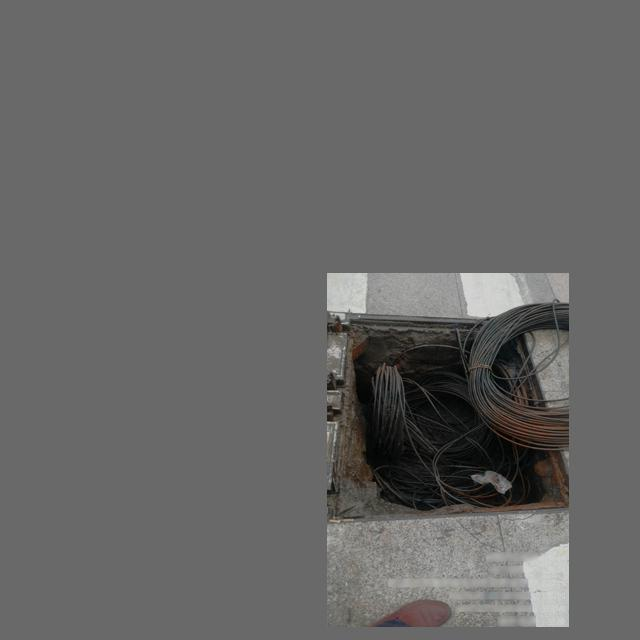lose: (330, 303, 562, 535)
